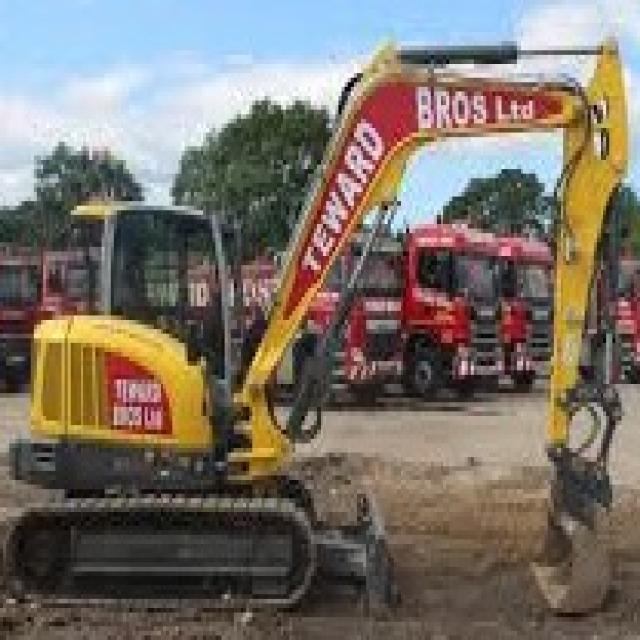excavator: (14, 156, 449, 640)
